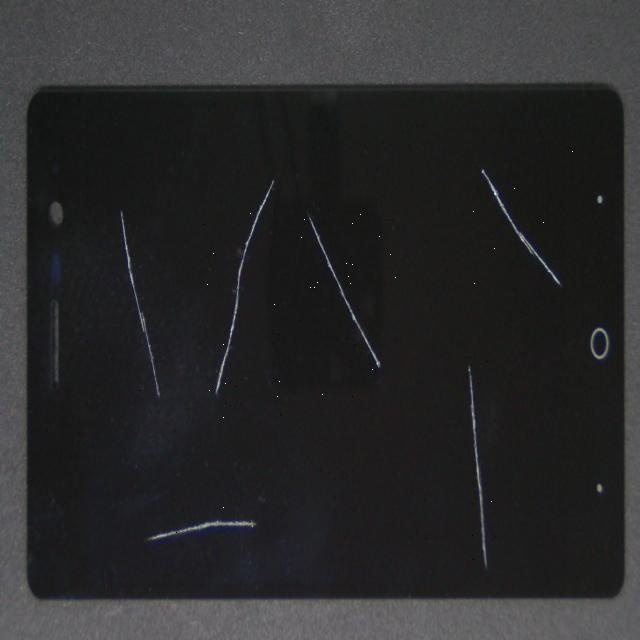scratch: (224, 51, 640, 629), (107, 34, 485, 432), (162, 53, 640, 355), (96, 181, 312, 617), (77, 221, 233, 640), (70, 256, 205, 640)
